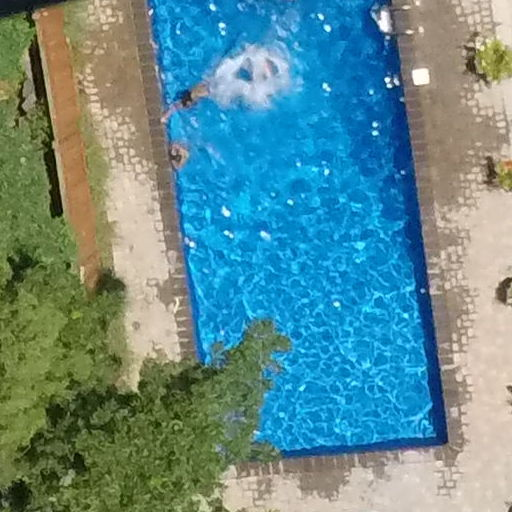pool: (134, 1, 460, 458)
